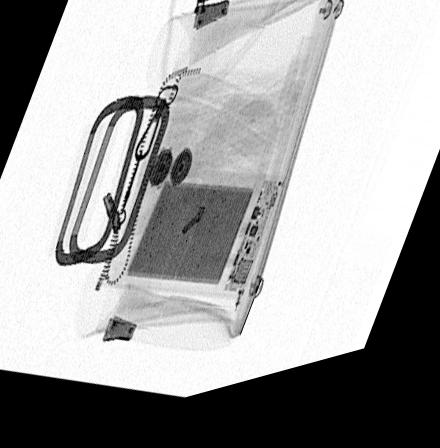Powerbank: (115, 182, 287, 314)
